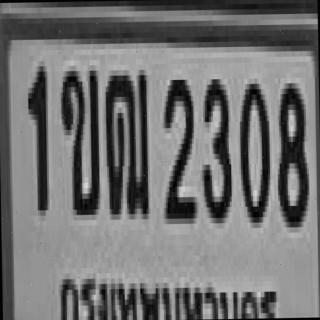A02: (58, 62, 98, 207)
A18: (103, 62, 148, 212)
N00: (237, 78, 268, 217)
N01: (25, 58, 47, 208)
N02: (162, 72, 193, 216)
N03: (198, 74, 230, 218)
N08: (274, 78, 306, 222)
